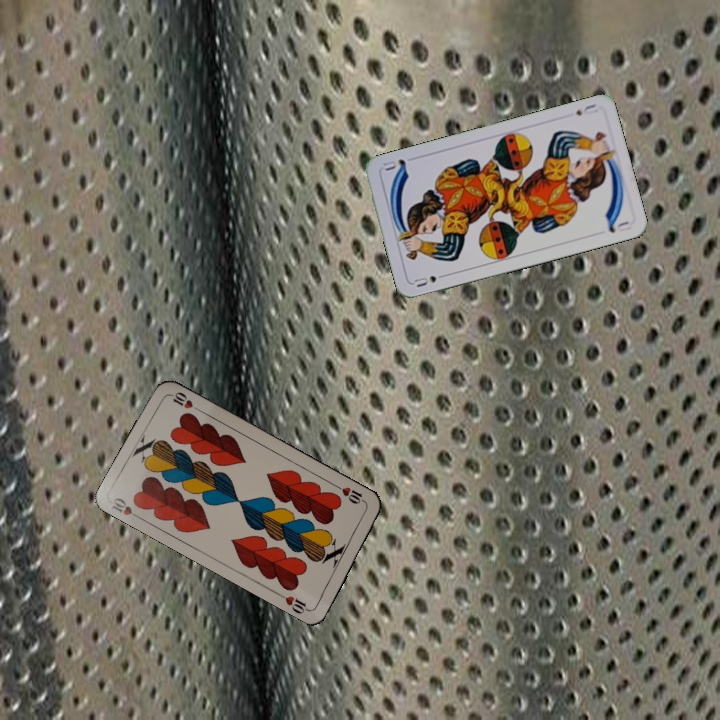H10: (107, 494, 145, 523), (332, 481, 369, 507)
SU: (410, 270, 450, 290), (571, 100, 600, 118)
